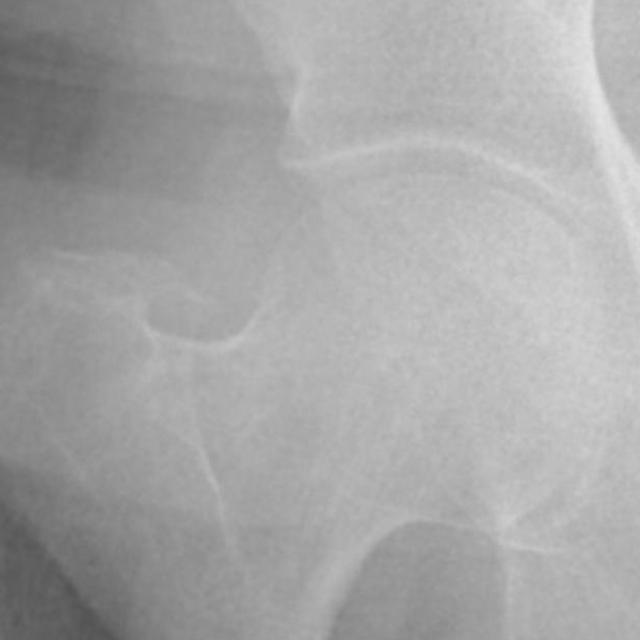Fitted_femural_head: (363, 173, 432, 363)
